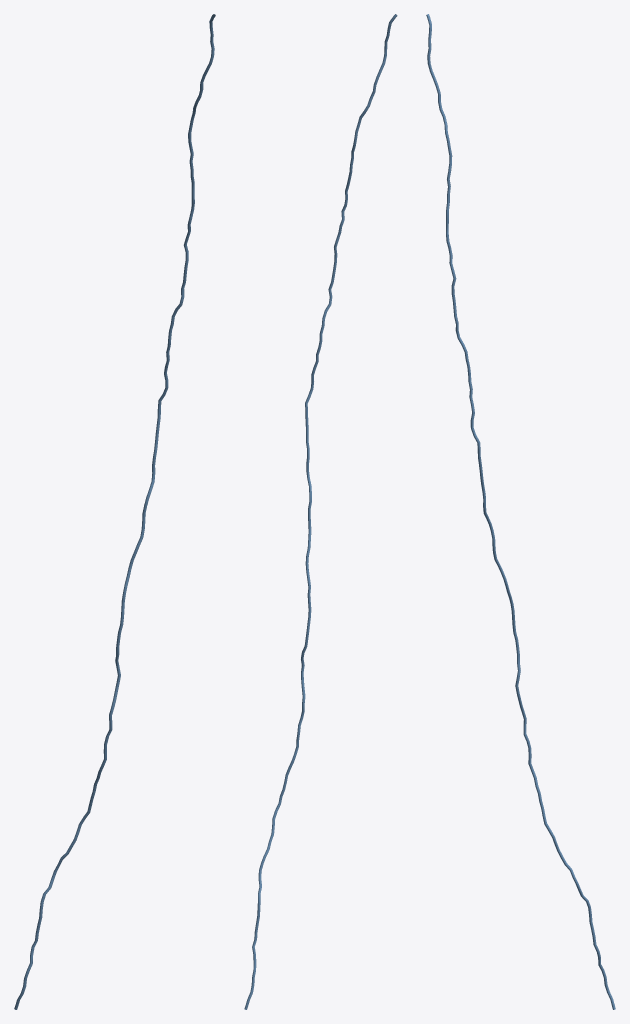
File: sweep34.fbx
The picture shows the model from 3 angles, left to right: view 1: azimuth 90°, elevation 25°; view 2: azimuth 150°, elevation 25°; view 3: azimuth 270°, elevation 25°; orthographic projection. The views are drawn at different scales.
Visible parts, largest first — view 1: sweep34; view 2: sweep34; view 3: sweep34.
Boxes of the visible parts, x1,y1,x2,y2 form: sweep34: [14, 14, 215, 1009]; sweep34: [244, 14, 397, 1009]; sweep34: [426, 14, 615, 1009].
Size of the model in its own units: 0.5367 by 7.18 by 1.28.
